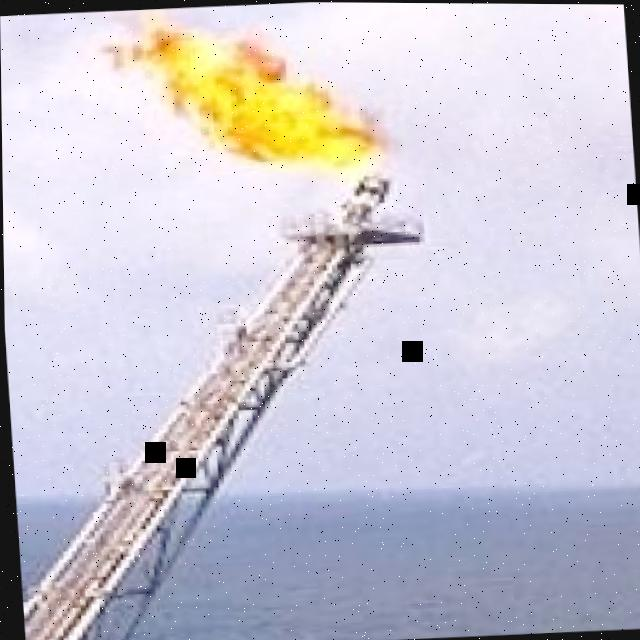fire: (97, 9, 373, 167)
